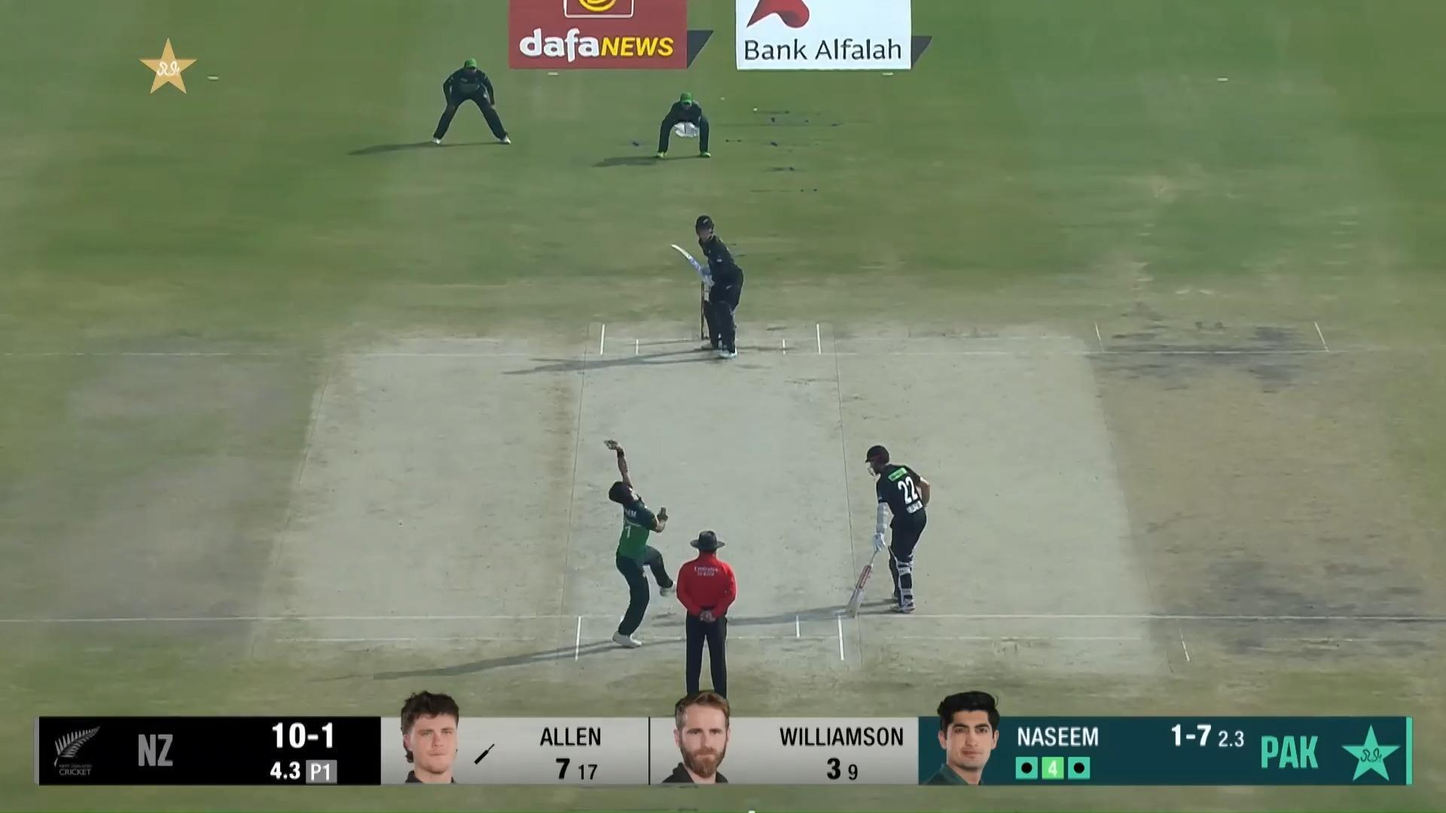BM 1: (670, 213, 745, 361)
BO: (606, 439, 678, 648)
